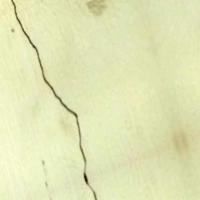crack: (10, 0, 103, 197)
